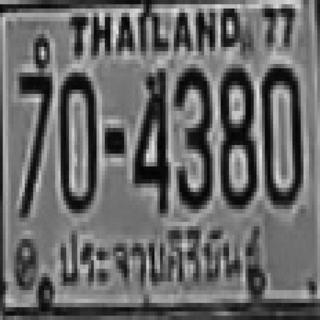N00: (261, 64, 299, 205), (58, 68, 96, 209)
N03: (174, 64, 210, 205)
N04: (132, 66, 168, 211)
N07: (16, 70, 49, 216), (16, 70, 49, 190)
N08: (218, 64, 254, 205)
P50: (53, 219, 263, 296)
